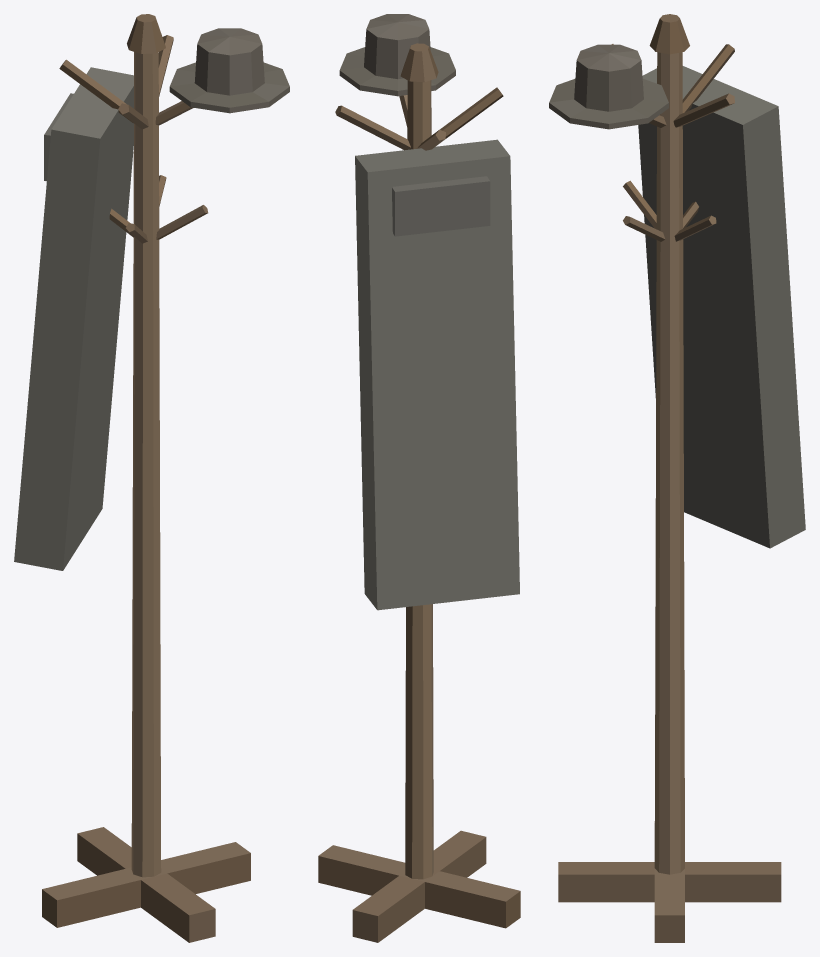
File: garderobe_staender.glb
3 renders of one model, left to right at view 1: azimuth 30°, elevation 25°; view 2: azimuth 150°, elevation 25°; view 3: azimuth 270°, elevation 25°, orthographic. The views are drawn at different scales.
Parts seen in each view (by area): view 1: mantel, staender; view 2: mantel, staender; view 3: mantel, staender.
Part boxes in pixels (x1,y1,x2,y2): mantel: [14, 28, 289, 570]; staender: [42, 14, 250, 942]; mantel: [339, 14, 519, 610]; staender: [318, 43, 520, 942]; mantel: [549, 44, 805, 548]; staender: [558, 14, 781, 942].
Size of the model in its own units: 0.5081 by 1.91 by 0.5063.
